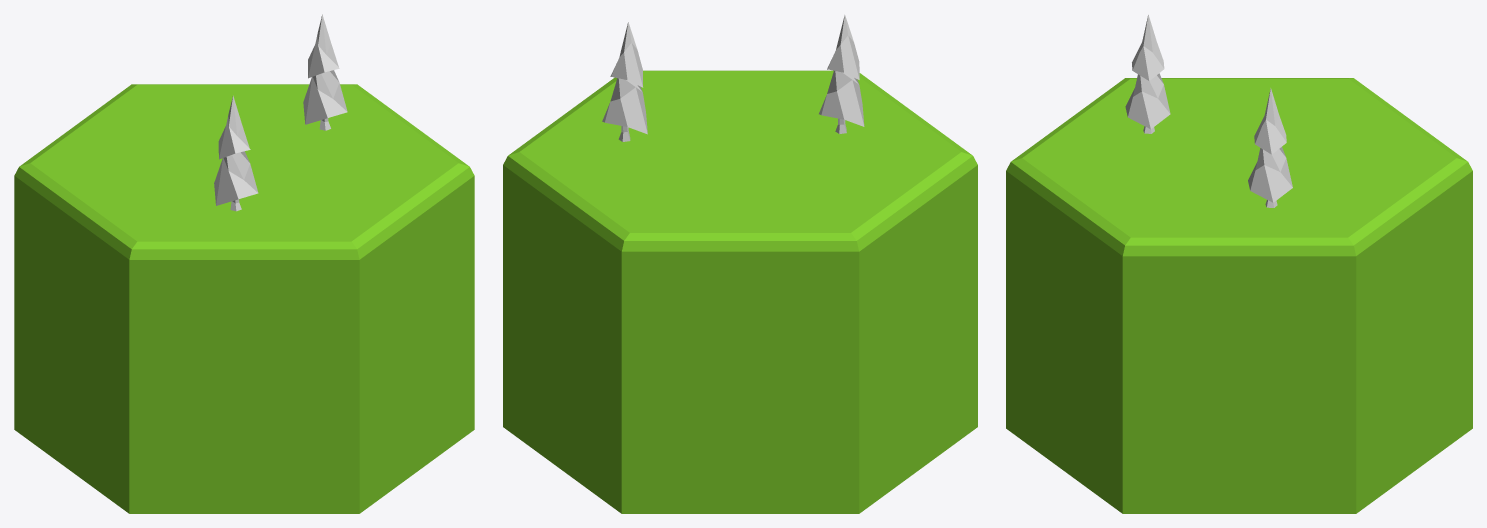
Rendered from Hex Tile Grass 06.glb.
3 renders of one model, left to right at view 1: azimuth 30°, elevation 25°; view 2: azimuth 150°, elevation 25°; view 3: azimuth 270°, elevation 25°, orthographic. The views are drawn at different scales.
Visible parts, largest first — view 1: SpruceTree2; view 2: SpruceTree2; view 3: SpruceTree2.
Part boxes in pixels (left/top/right/bottom): SpruceTree2: left=14, top=14, right=474, bottom=513; SpruceTree2: left=503, top=14, right=977, bottom=513; SpruceTree2: left=1006, top=14, right=1472, bottom=513.
Bounding box in the file's own units: 1.73 × 1.83 × 2.
